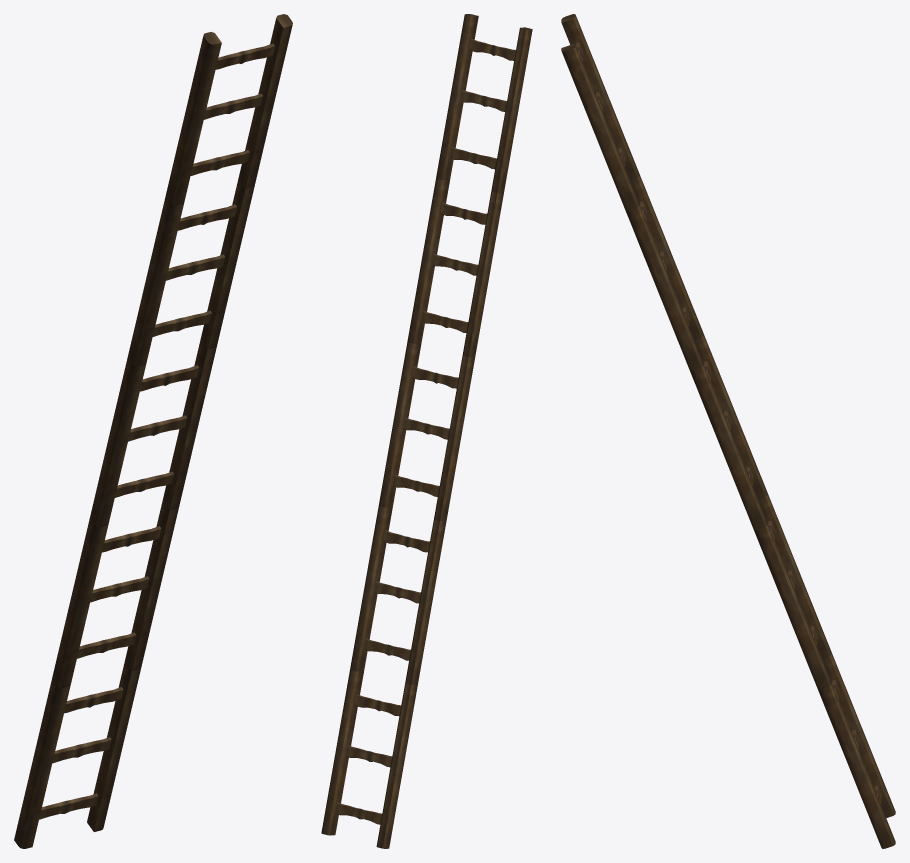
The picture shows the model from 3 angles, left to right: view 1: azimuth 30°, elevation 25°; view 2: azimuth 150°, elevation 25°; view 3: azimuth 270°, elevation 25°; orthographic projection. The views are drawn at different scales.
Visible parts, largest first — view 1: Cube174_atlas_puertas_0; view 2: Cube174_atlas_puertas_0; view 3: Cube174_atlas_puertas_0.
Part boxes in pixels (x1,y1,x2,y2): Cube174_atlas_puertas_0: [14, 14, 292, 848]; Cube174_atlas_puertas_0: [321, 14, 532, 848]; Cube174_atlas_puertas_0: [561, 14, 895, 848].
Size of the model in its own units: 0.44 by 4.73 by 1.79.
Materials: 1 (1 with a texture image).
